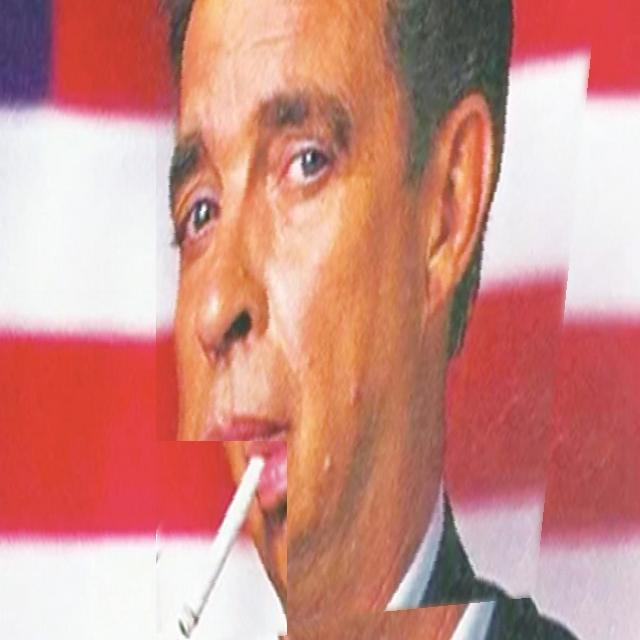cigarette: (151, 441, 287, 640)
